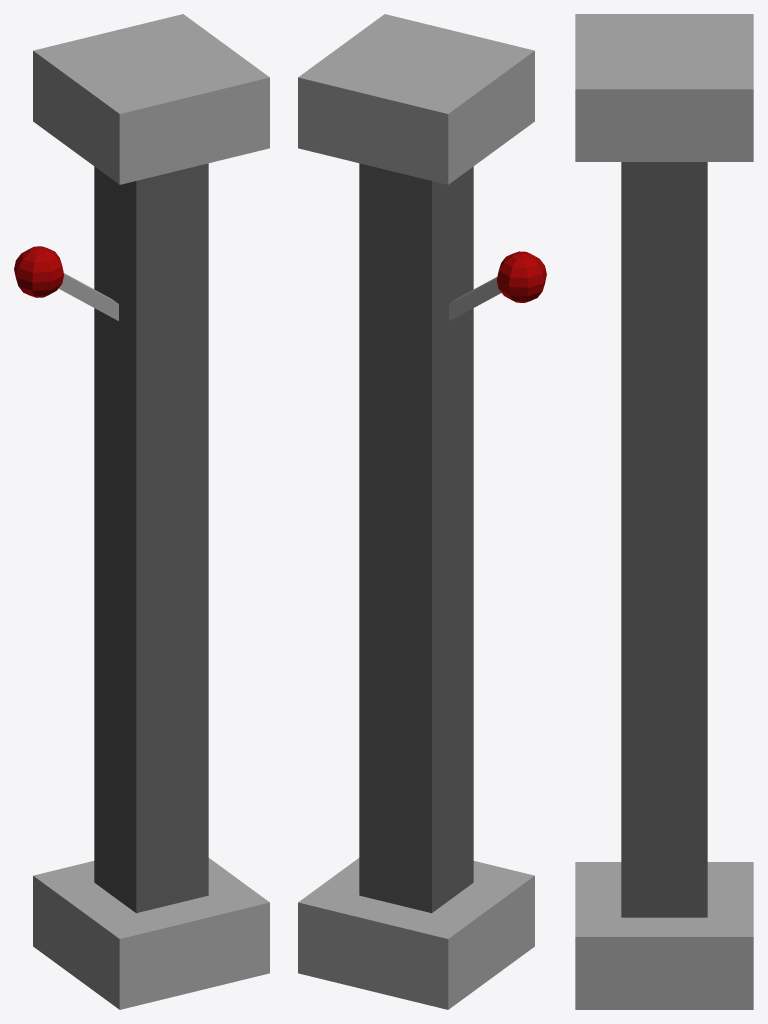
The model's file is env_Lever.fbx.
The picture shows the model from 3 angles, left to right: view 1: azimuth 30°, elevation 25°; view 2: azimuth 150°, elevation 25°; view 3: azimuth 270°, elevation 25°; orthographic projection. The views are drawn at different scales.
Parts seen in each view (by area): view 1: env_LeverBody, env_Lever; view 2: env_LeverBody, env_Lever; view 3: env_LeverBody.
Part boxes in pixels (<box>): env_LeverBody: <box>33,14,269,1009</box>; env_Lever: <box>14,246,118,320</box>; env_LeverBody: <box>298,14,534,1009</box>; env_Lever: <box>449,251,546,321</box>; env_LeverBody: <box>575,14,753,1009</box>.
Size of the model in its own units: 44.25 by 183 by 32.18.
